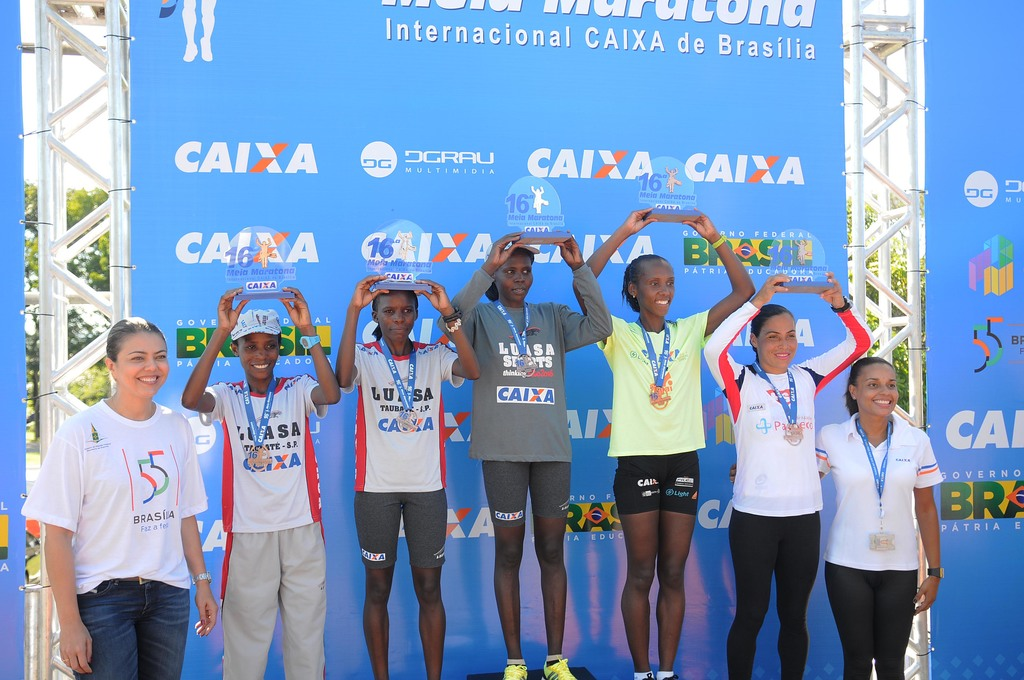Person: (182, 204, 945, 680)
